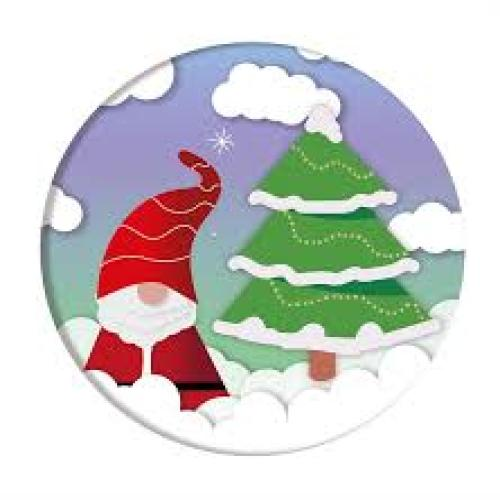Santa: (81, 148, 229, 410)
